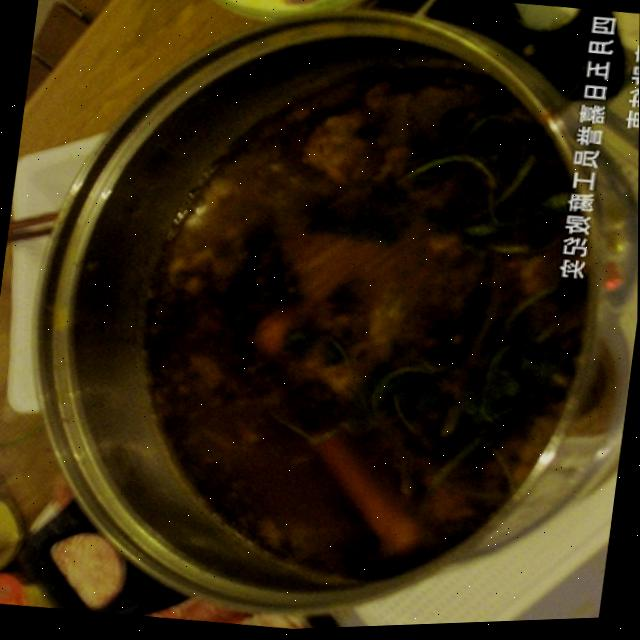汤锅炖物: (6, 0, 640, 640)
